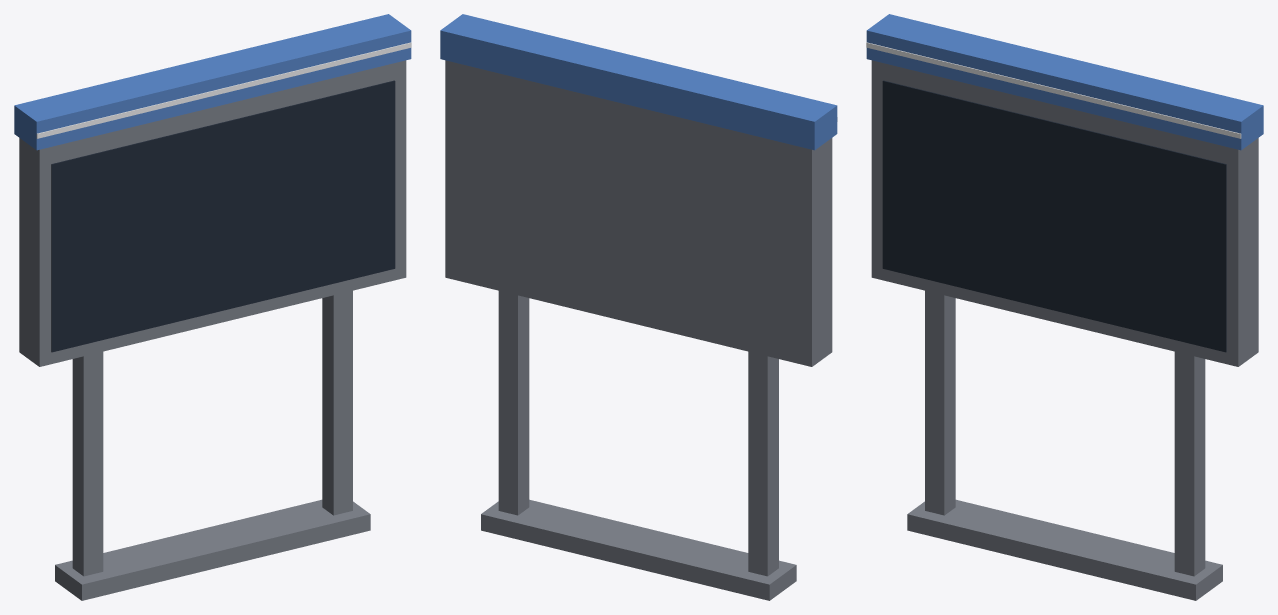
The model's file is scoreboard.glb.
The picture shows the model from 3 angles, left to right: view 1: azimuth 30°, elevation 25°; view 2: azimuth 150°, elevation 25°; view 3: azimuth 330°, elevation 25°; orthographic projection.
Parts seen in each view (by area): view 1: scoreboard; view 2: scoreboard; view 3: scoreboard.
Part boxes in pixels (<box>): scoreboard: <box>14,14,411,600</box>; scoreboard: <box>440,14,837,600</box>; scoreboard: <box>866,14,1263,600</box>.
Bounding box in the file's own units: 9.6 × 11.95 × 1.2.
